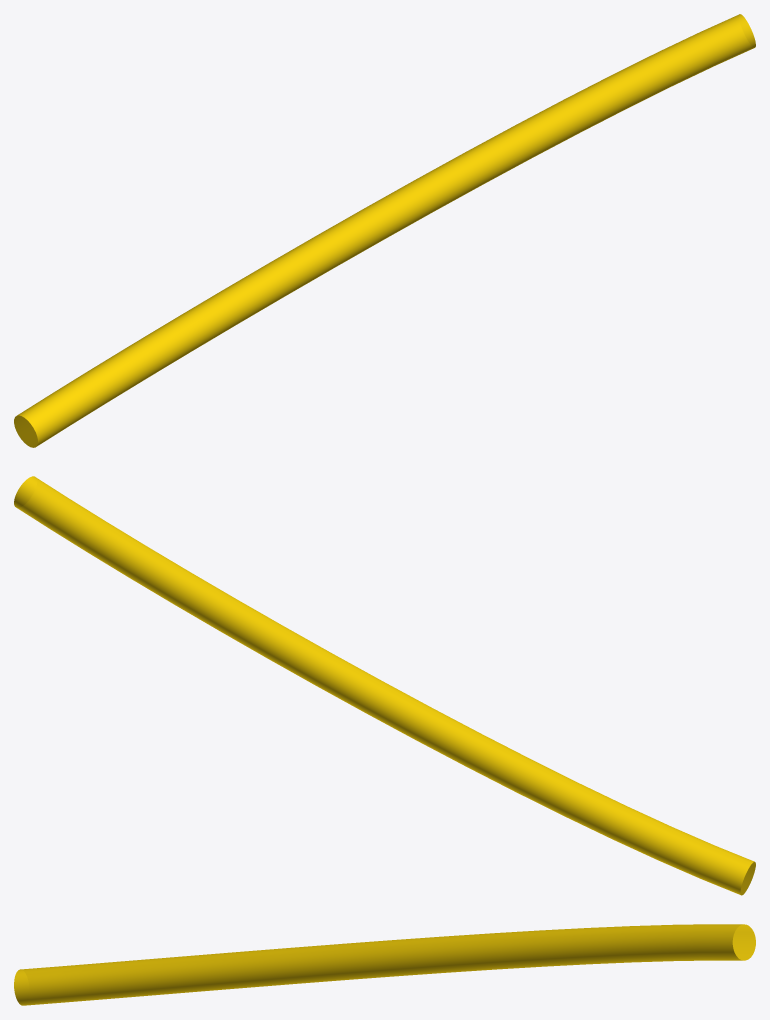
Rendered from Event_421278790_track_35.fbx.
The picture shows the model from 3 angles, top to bottom: view 1: azimuth 30°, elevation 25°; view 2: azimuth 150°, elevation 25°; view 3: azimuth 330°, elevation 25°; orthographic projection.
Visible parts, largest first — view 1: Model; view 2: Model; view 3: Model.
Boxes of the visible parts, left/top/right/bottom form: Model: left=14, top=14, right=755, bottom=447; Model: left=14, top=476, right=755, bottom=895; Model: left=14, top=924, right=755, bottom=1005.
Bounding box in the file's own units: 0.9202 × 0.3 × 0.0746.
